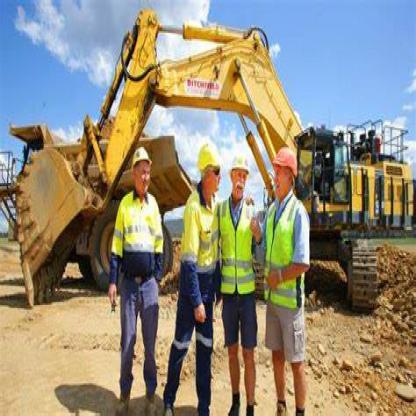person: (261, 138, 327, 412), (166, 114, 219, 415), (112, 138, 164, 411), (218, 125, 259, 408)
